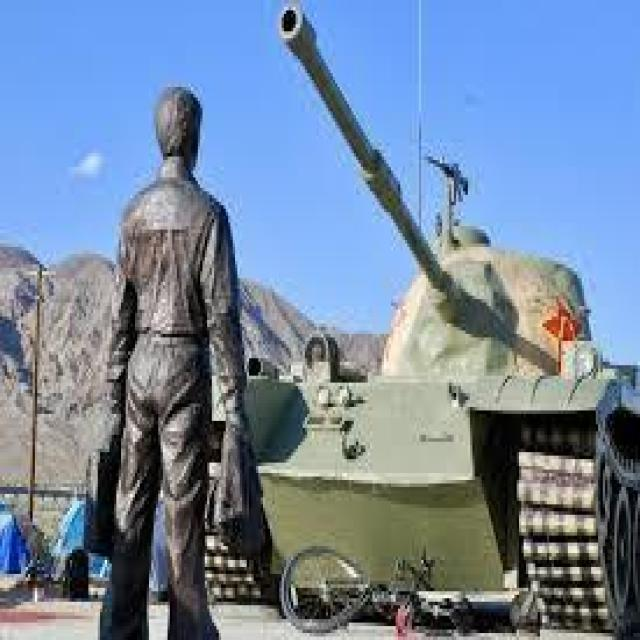Tanks: (265, 9, 631, 624)
